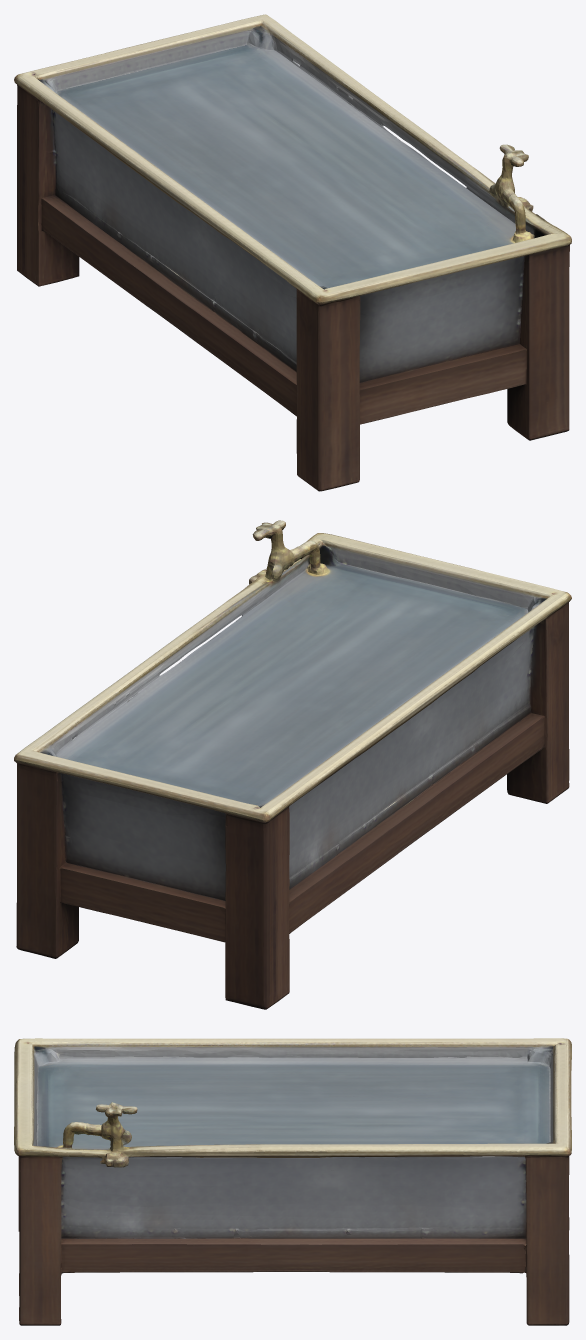
Rendered from water_trough.glb.
3 views of the same model, one above another, from view 1: azimuth 30°, elevation 25°; view 2: azimuth 150°, elevation 25°; view 3: azimuth 270°, elevation 25° (orthographic). The views are drawn at different scales.
Parts seen in each view (by area): view 1: world; view 2: world; view 3: world.
Part boxes in pixels (bbox=[...]): world: bbox=[14, 14, 571, 491]; world: bbox=[14, 520, 571, 1009]; world: bbox=[14, 1038, 571, 1325].
Bounding box in the file's own units: 0.4952 × 0.4331 × 0.996.
Materials: 1 (1 with a texture image).
